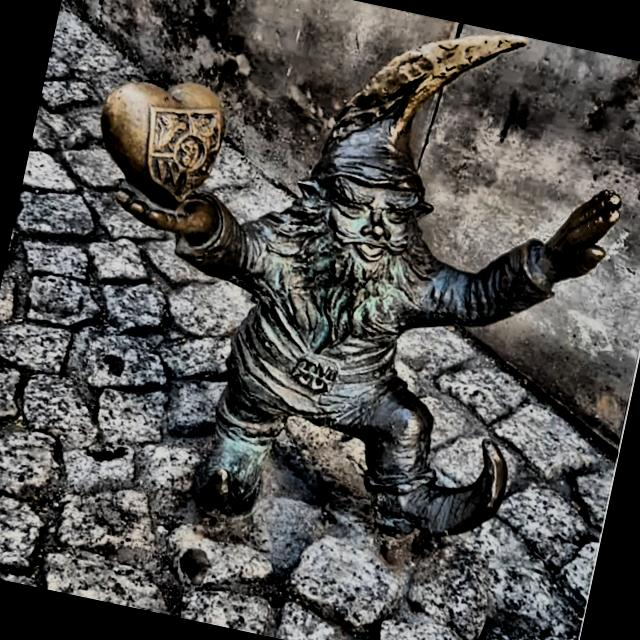WrocLovek: (100, 32, 640, 591)
